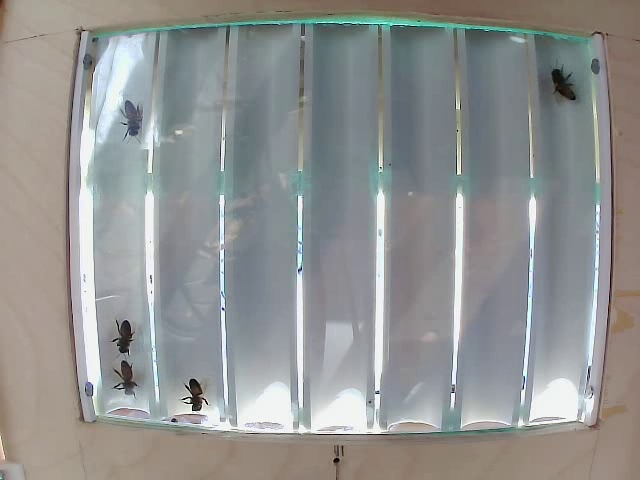bee: (108, 319, 138, 357), (552, 65, 576, 111), (115, 363, 146, 398), (122, 102, 143, 143), (175, 376, 202, 404)
